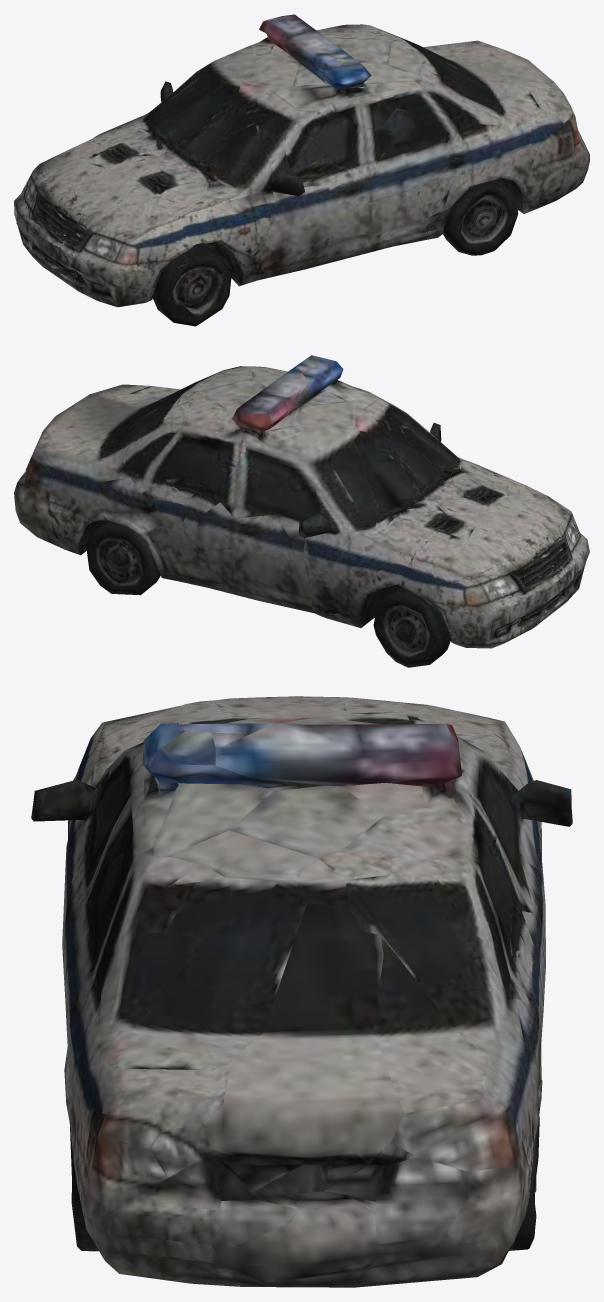
File: patrol2.glb
The picture shows the model from 3 angles, top to bottom: view 1: azimuth 30°, elevation 25°; view 2: azimuth 150°, elevation 25°; view 3: azimuth 270°, elevation 25°; orthographic projection. The views are drawn at different scales.
Size of the model in its own units: 148 by 55.58 by 68.04.
1 material, 1 textured.
